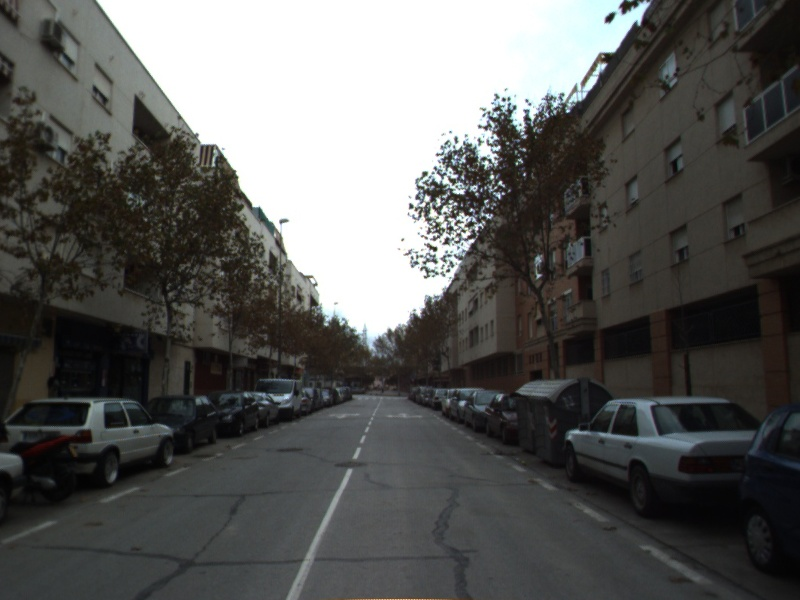STRAIGHT_LEFT_RIGHT: (383, 410, 426, 421)
